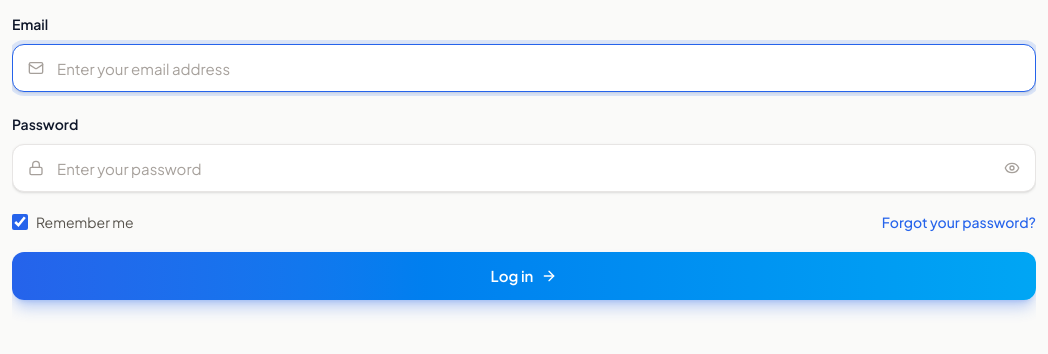
Test case: LoginForm › asks for a password when only that is missing and focuses it
In the field labelled "Email": (524, 68) [12,44,1036,92], type "a@b.com"
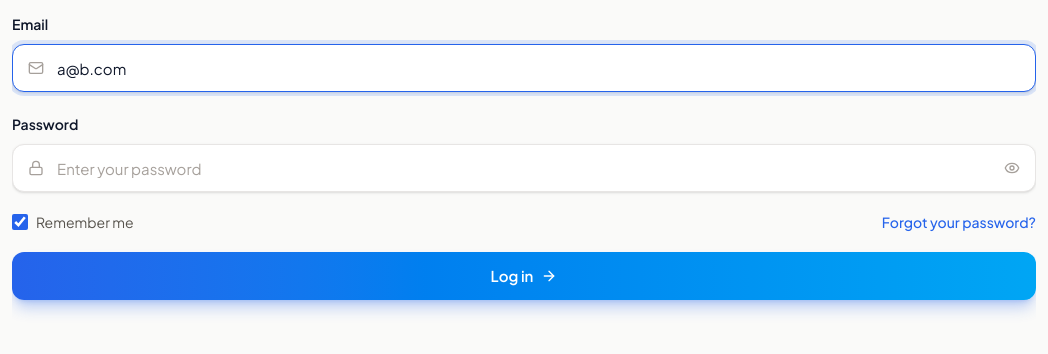
Click the button "Log in": (524, 276) [12,252,1036,300]
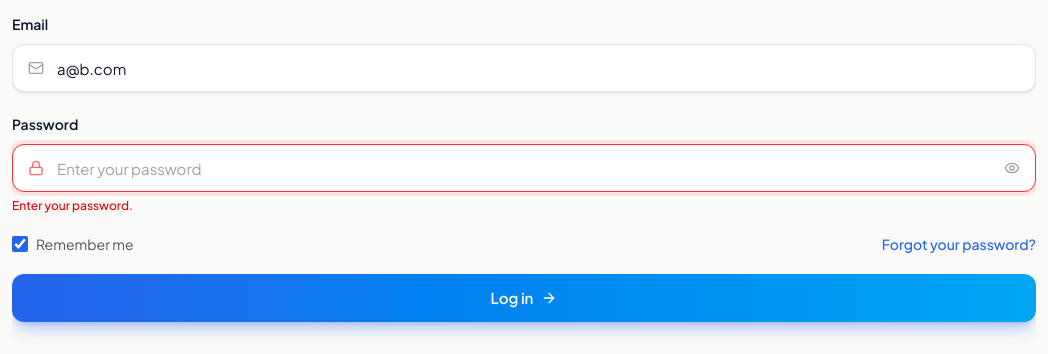
Result: the text "Enter your password." is shown at [12,198,133,213]
